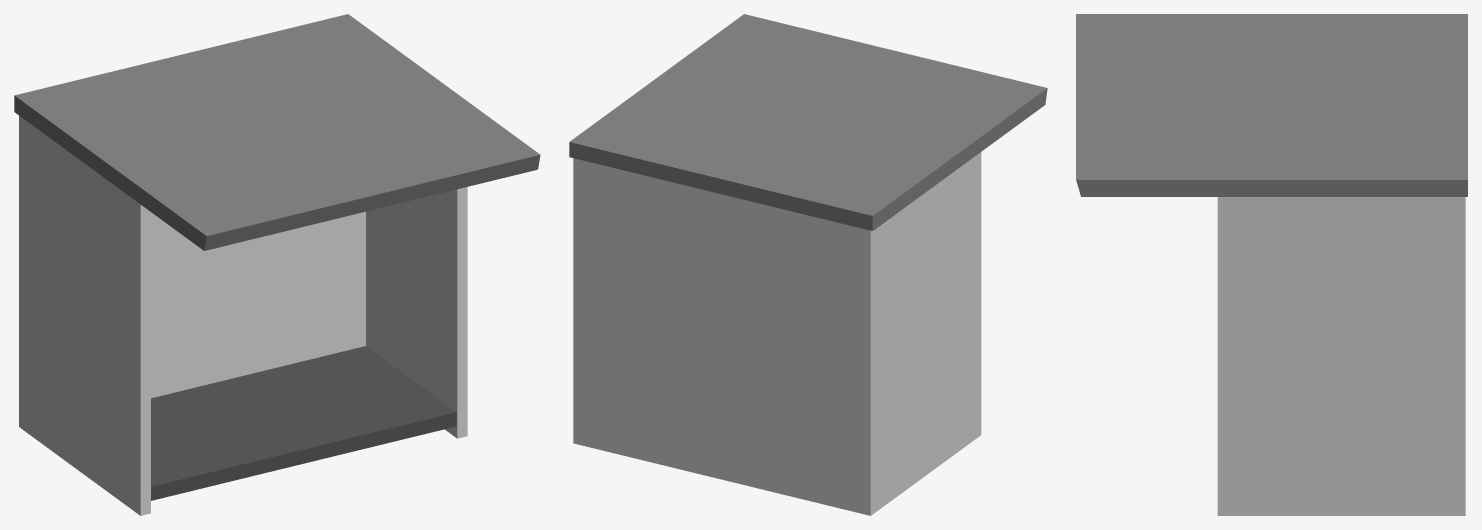
Rendered from Office_CounterA2.fbx.
3 renders of one model, left to right at view 1: azimuth 30°, elevation 25°; view 2: azimuth 150°, elevation 25°; view 3: azimuth 270°, elevation 25°, orthographic. The views are drawn at different scales.
Visible parts, largest first — view 1: Office_CounterA2; view 2: Office_CounterA2; view 3: Office_CounterA2.
Part boxes in pixels (x1,y1,x2,y2): Office_CounterA2: (14, 14, 540, 515); Office_CounterA2: (569, 14, 1047, 515); Office_CounterA2: (1076, 14, 1467, 515).
Bounding box in the file's own units: 100 × 94.9 × 99.79.
